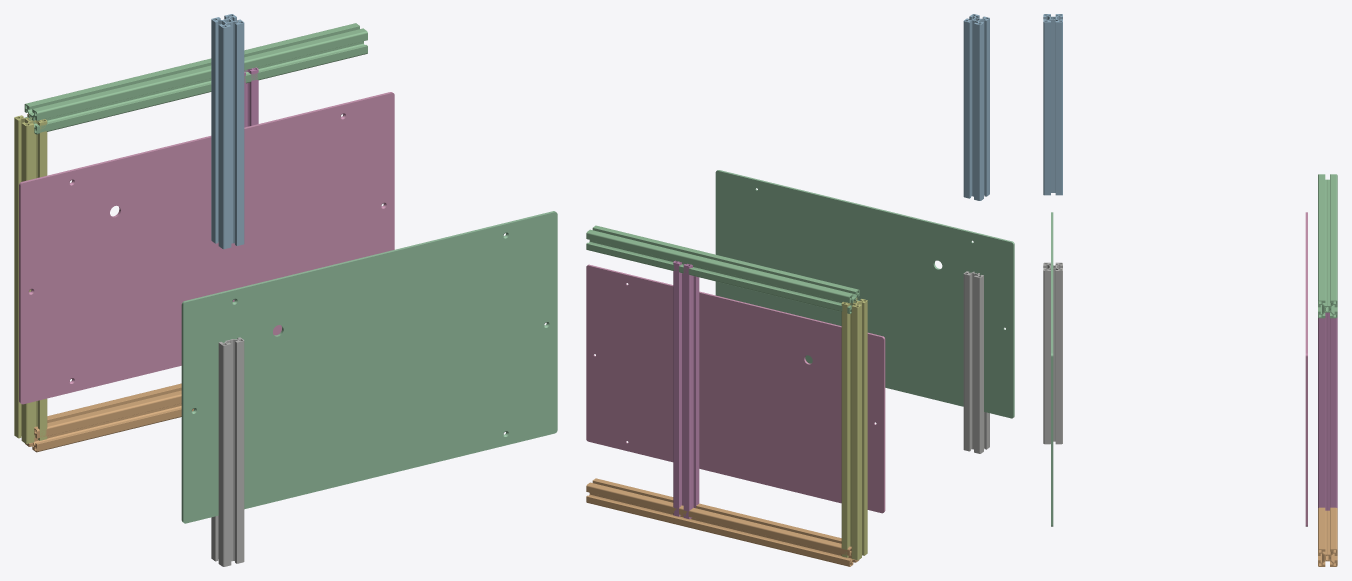
The model's file is case-06_claude48.glb.
3 views of the same model, side by side, from view 1: azimuth 30°, elevation 25°; view 2: azimuth 150°, elevation 25°; view 3: azimuth 270°, elevation 25° (orthographic). The views are drawn at different scales.
Visible parts, largest first — view 1: c00008, c00007, c00004, c00006, c00005, c00003, c00001, c00002; view 2: c00007, c00008, c00004, c00003, c00001, c00002, c00006, c00005; view 3: c00002, c00006, c00005, c00004, c00003, c00007, c00008.
Part boxes in pixels (bbox=[...]): c00008: bbox=[181, 211, 557, 523]; c00007: bbox=[19, 92, 394, 404]; c00004: bbox=[24, 23, 367, 134]; c00006: bbox=[211, 14, 244, 249]; c00005: bbox=[211, 337, 244, 566]; c00003: bbox=[25, 383, 193, 452]; c00001: bbox=[14, 114, 47, 443]; c00002: bbox=[244, 67, 258, 127]; c00007: bbox=[586, 264, 885, 513]; c00008: bbox=[715, 170, 1014, 418]; c00004: bbox=[586, 225, 859, 313]; c00003: bbox=[586, 478, 858, 566]; c00001: bbox=[841, 298, 867, 560]; c00002: bbox=[673, 260, 699, 519]; c00006: bbox=[963, 14, 989, 200]; c00005: bbox=[963, 271, 989, 453]; c00002: bbox=[1318, 312, 1337, 510]; c00006: bbox=[1043, 14, 1062, 195]; c00005: bbox=[1043, 262, 1062, 444]; c00004: bbox=[1318, 174, 1337, 318]; c00003: bbox=[1318, 507, 1337, 566]; c00007: bbox=[1305, 212, 1307, 526]; c00008: bbox=[1051, 212, 1053, 526].
Size of the model in its own units: 690 by 970 by 600.
